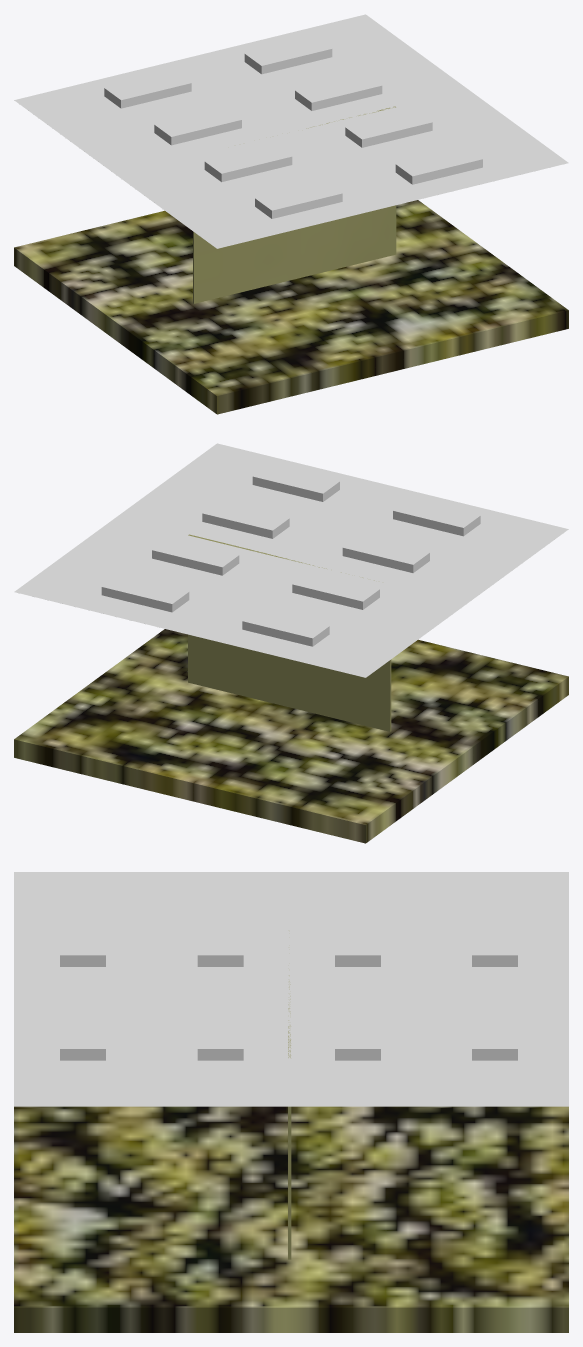
Rendered from BackroomsLevelZero - 12.fbx.
The picture shows the model from 3 angles, top to bottom: view 1: azimuth 30°, elevation 25°; view 2: azimuth 150°, elevation 25°; view 3: azimuth 270°, elevation 25°; orthographic projection. The views are drawn at different scales.
Parts seen in each view (by area): view 1: Floor.012, Floor.032, Wall.031, Cube.198, Cube.197, Cube.196, Cube.195, Cube.200, Cube.201, Cube.202, Cube.199; view 2: Floor.012, Floor.032, Wall.031, Cube.198, Cube.196, Cube.201, Cube.195, Cube.197, Cube.200, Cube.202, Cube.199; view 3: Floor.012, Floor.032, Cube.197, Cube.200, Cube.195, Cube.196, Cube.198, Cube.199, Cube.201, Cube.202, Wall.031.
Part boxes in pixels (x1,y1,x2,y2): Floor.012: [14, 200, 568, 414]; Floor.032: [14, 14, 568, 248]; Wall.031: [193, 106, 396, 303]; Cube.198: [244, 36, 332, 74]; Cube.197: [204, 144, 292, 182]; Cube.196: [154, 107, 241, 145]; Cube.195: [104, 70, 191, 108]; Cube.200: [345, 110, 432, 147]; Cube.201: [255, 181, 342, 218]; Cube.202: [395, 147, 482, 184]; Cube.199: [295, 73, 382, 110]; Floor.012: [14, 629, 568, 843]; Floor.032: [14, 443, 568, 677]; Wall.031: [188, 534, 391, 731]; Cube.198: [101, 574, 189, 612]; Cube.196: [292, 572, 379, 609]; Cube.201: [393, 498, 480, 536]; Cube.195: [242, 609, 329, 646]; Cube.197: [342, 535, 429, 572]; Cube.200: [202, 501, 289, 538]; Cube.202: [252, 464, 339, 501]; Cube.199: [152, 538, 239, 575]; Floor.012: [14, 1106, 568, 1332]; Floor.032: [14, 872, 568, 1106]; Cube.197: [197, 908, 243, 966]; Cube.200: [197, 1002, 243, 1060]; Cube.195: [472, 908, 517, 966]; Cube.196: [335, 908, 380, 966]; Cube.198: [472, 1002, 517, 1060]; Cube.199: [335, 1002, 380, 1060]; Cube.201: [60, 908, 105, 966]; Cube.202: [60, 1002, 105, 1060]; Wall.031: [288, 975, 291, 1259].
Bounding box in the file's own units: 2000 × 946 × 2000.
